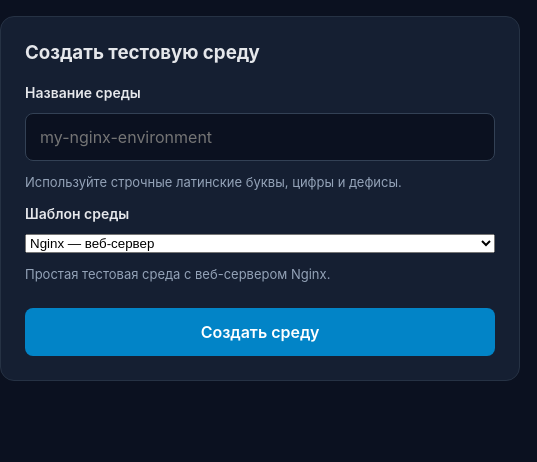
Test: CreateEnvironmentForm › успешно создаёт тестовую среду
The width and height of the screenshot is (537, 462).
Type "test-nginx" into the field labelled "Название среды". click: (260, 137)
box: [25, 113, 495, 161]
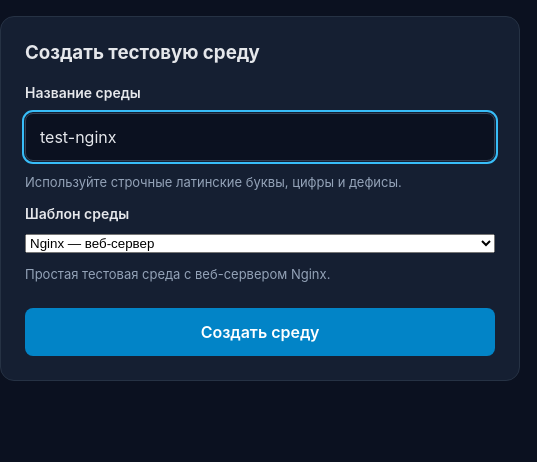
Click the button "Создать среду". click: (260, 332)
box: [25, 308, 495, 356]
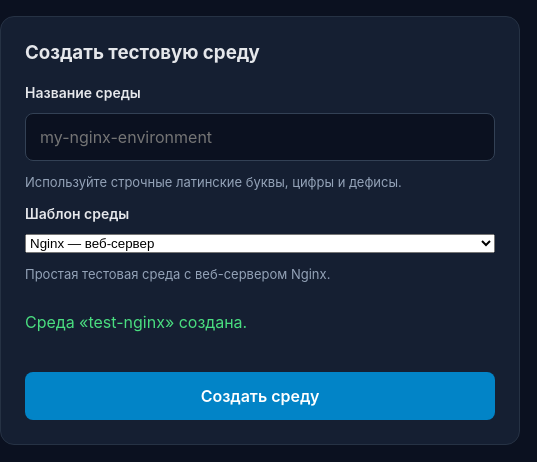
Now the message reads "Среда «test-nginx» создана.", box [25, 312, 247, 332]
